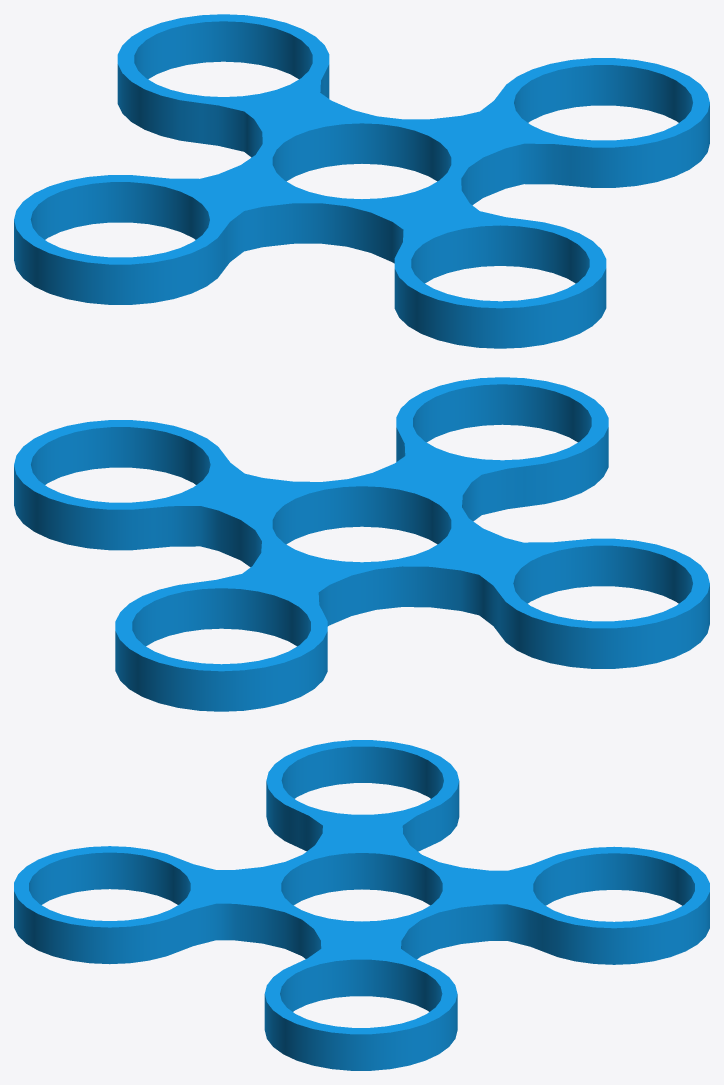
Rendered from spinner_4.FBX.
3 renders of one model, top to bottom at view 1: azimuth 30°, elevation 25°; view 2: azimuth 150°, elevation 25°; view 3: azimuth 270°, elevation 25°, orthographic. The views are drawn at different scales.
Visible parts, largest first — view 1: spinner_4; view 2: spinner_4; view 3: spinner_4.
Part boxes in pixels (bbox=[...]): spinner_4: bbox=[14, 14, 709, 348]; spinner_4: bbox=[14, 377, 709, 711]; spinner_4: bbox=[14, 740, 709, 1070].
Bounding box in the file's own units: 0.1004 × 0.00583 × 0.1004.
